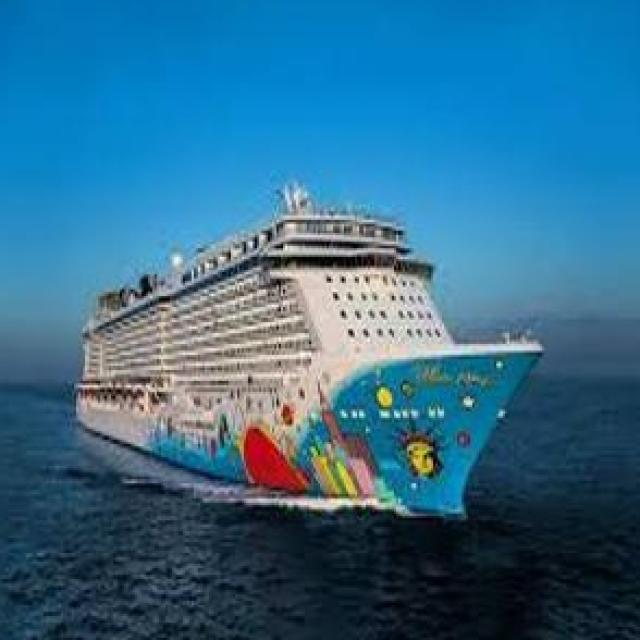passenger ship: (70, 181, 538, 520)
